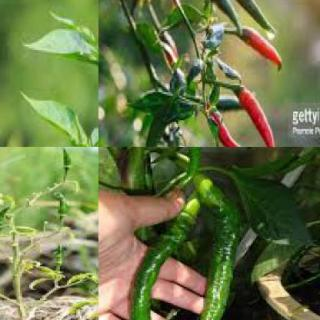green_chilli: (180, 178, 245, 319), (132, 199, 194, 319), (180, 0, 244, 38), (208, 0, 278, 32), (58, 147, 77, 169), (56, 194, 71, 218), (0, 204, 12, 226), (56, 243, 64, 264)
